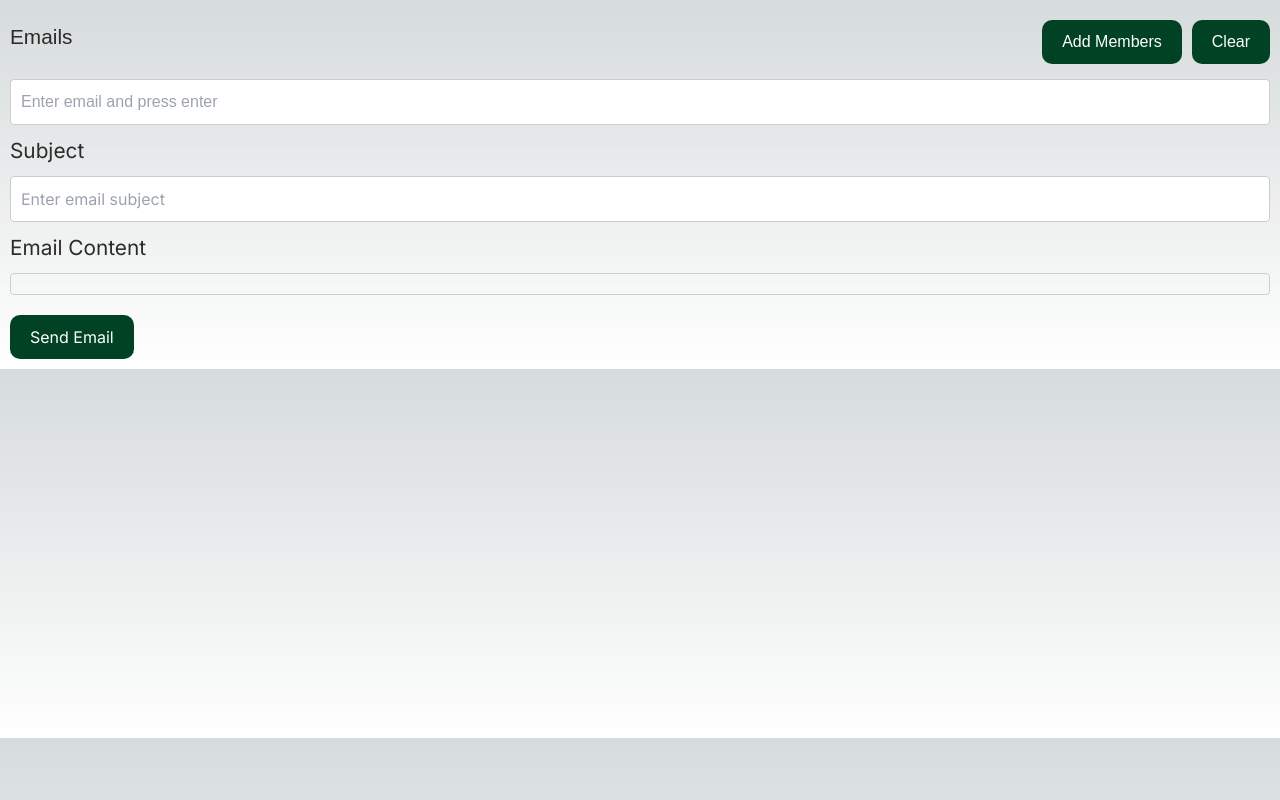
Test: EmailForm Component with mocked BlockNote › adds an email to the list when Enter is pressed
Type "new@example.com" into the field with placeholder "Enter email and press enter".
click(640, 102); type("new@example.com")  # box left=10, top=79, right=1270, bottom=125
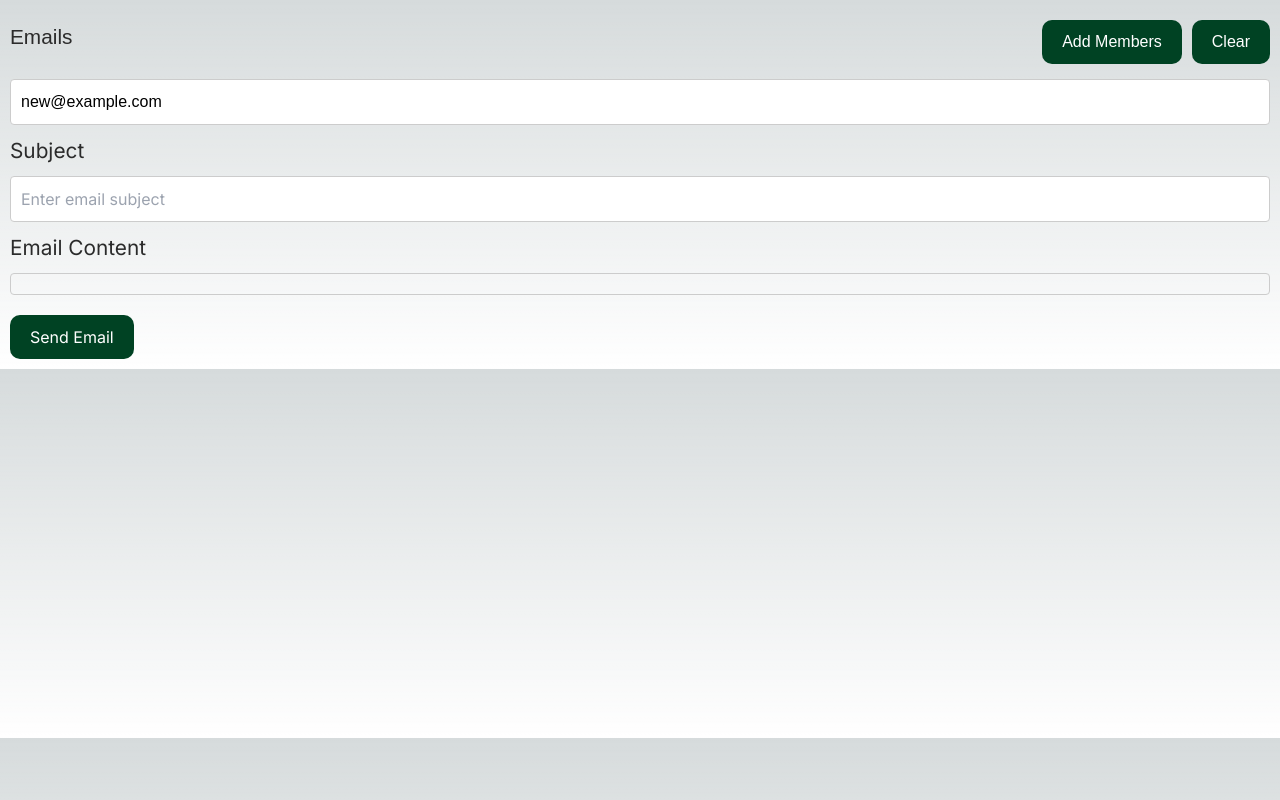
Press Enter in the field with placeholder "Enter email and press enter", box left=10, top=79, right=1270, bottom=125
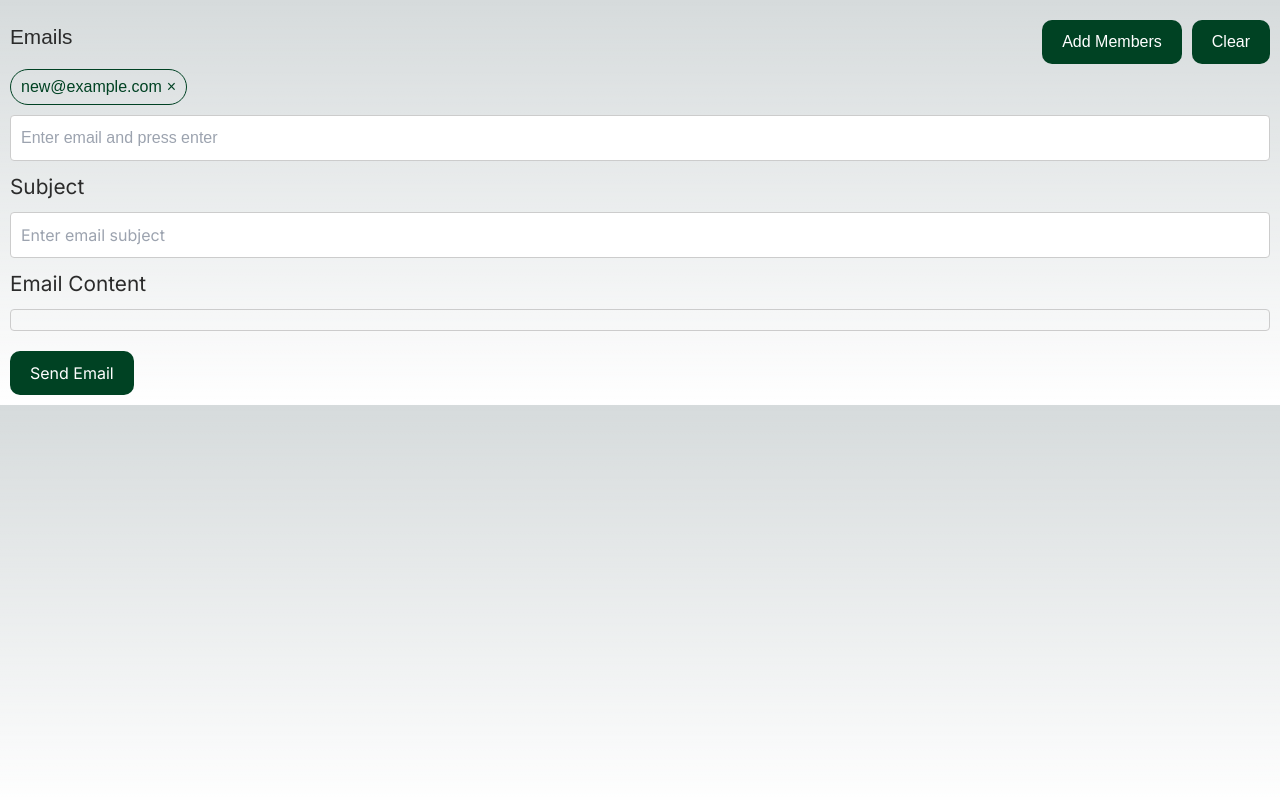
Now the text "new@example.com" is shown, box left=21, top=78, right=162, bottom=95
